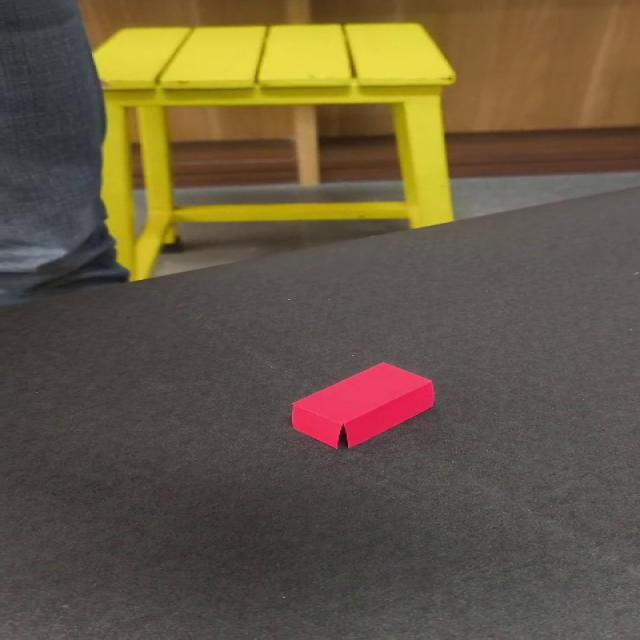red block: (289, 361, 435, 449)
